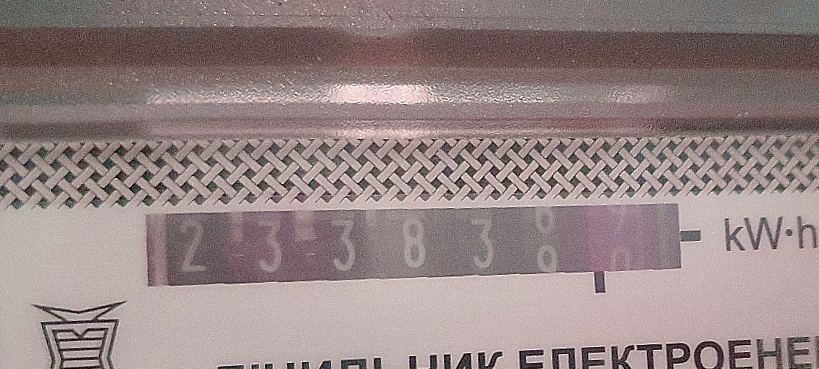0: (606, 242, 634, 277)
2: (171, 214, 213, 277)
3: (322, 211, 362, 277), (253, 215, 285, 275), (467, 211, 499, 270)
8: (394, 211, 432, 271), (531, 201, 559, 235)
9: (601, 198, 634, 239), (532, 239, 563, 277)
screen: (113, 155, 714, 350)
